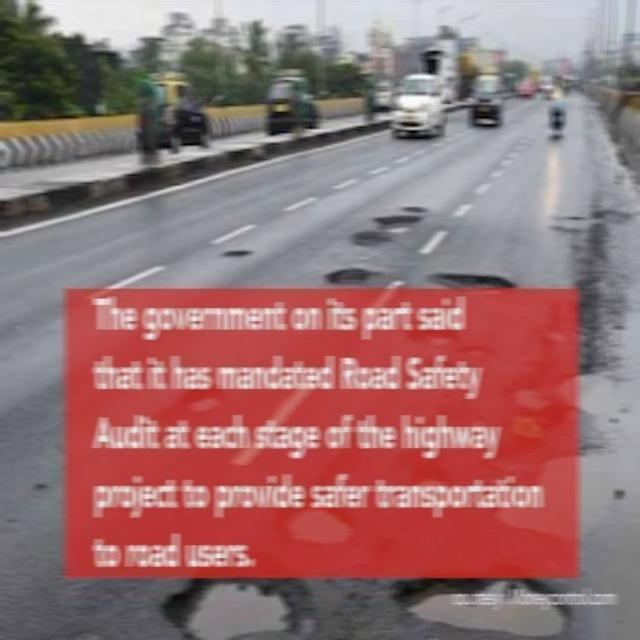Pothole: (550, 188, 639, 372), (374, 571, 588, 640), (150, 570, 327, 640), (352, 202, 434, 250), (321, 259, 388, 292), (436, 268, 513, 292), (221, 242, 255, 260)
